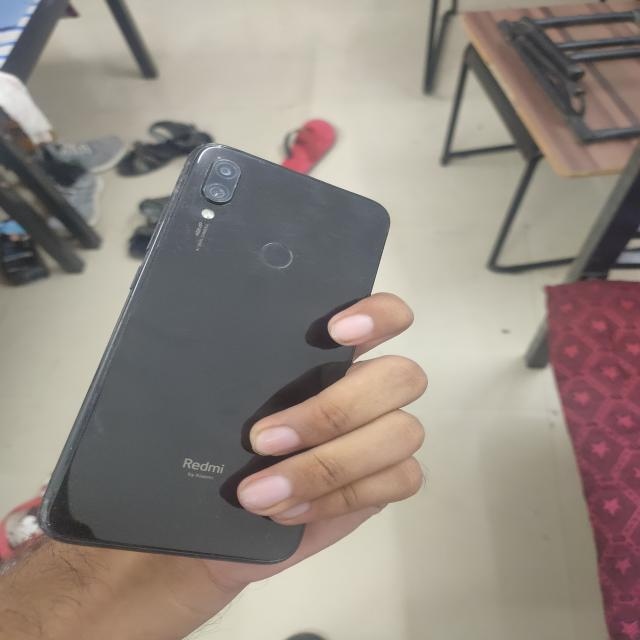Phone: (36, 135, 394, 568)
